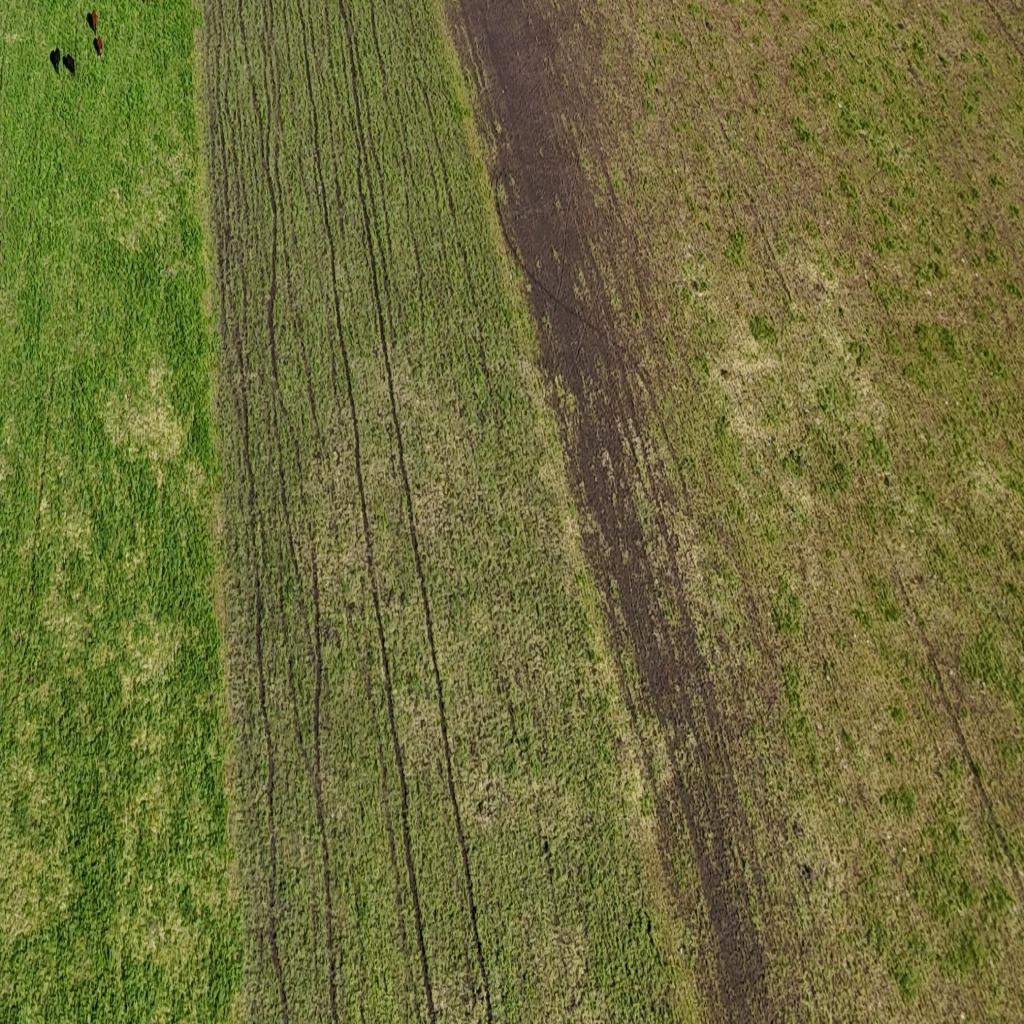cow: (62, 52, 76, 76), (50, 48, 62, 74), (91, 8, 98, 33), (97, 35, 103, 58)
